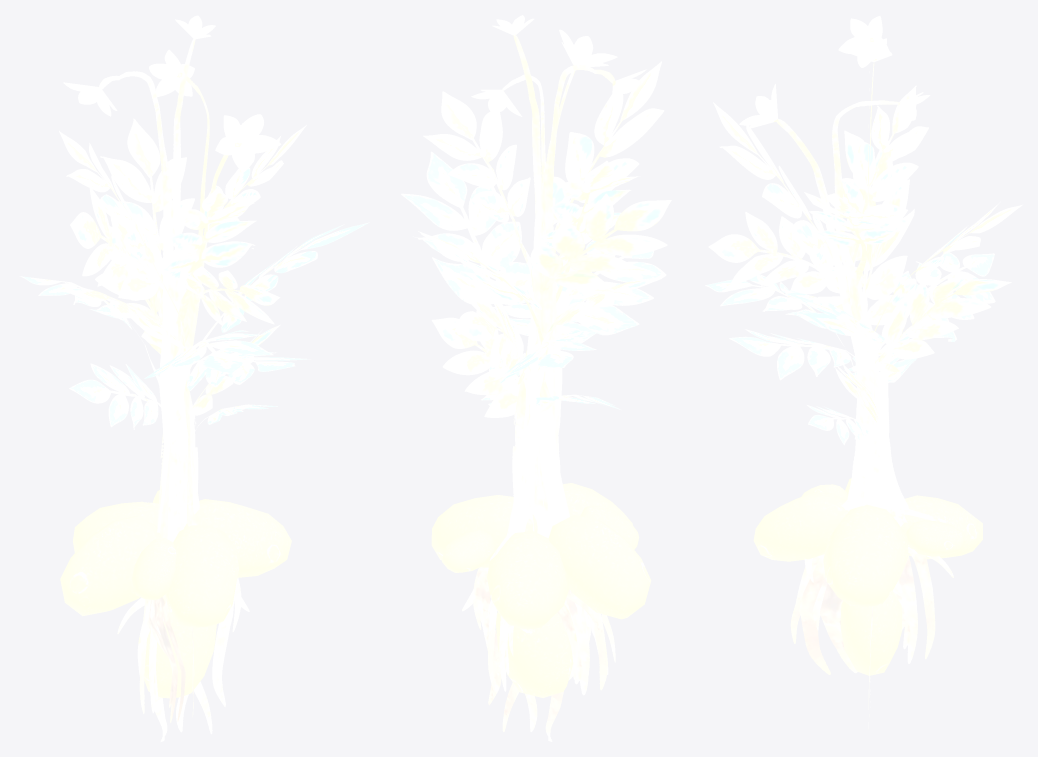
The picture shows the model from 3 angles, left to right: view 1: azimuth 30°, elevation 25°; view 2: azimuth 150°, elevation 25°; view 3: azimuth 270°, elevation 25°; orthographic projection. The views are drawn at different scales.
Parts seen in each view (by area): view 1: SM_Potato_Plant_01_LOD0; view 2: SM_Potato_Plant_01_LOD0; view 3: SM_Potato_Plant_01_LOD0.
Part boxes in pixels (x1=…): SM_Potato_Plant_01_LOD0: x1=19, y1=15, x2=369, y2=741; SM_Potato_Plant_01_LOD0: x1=401, y1=15, x2=671, y2=741; SM_Potato_Plant_01_LOD0: x1=705, y1=16, x2=1022, y2=728.
Size of the model in its own units: 0.6546 by 1.64 by 0.693.
1 material, 1 textured.
